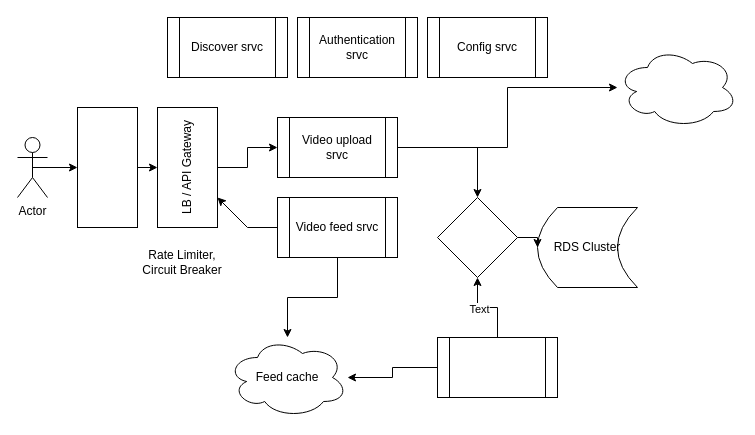
The diagram is 755 pixels wide and 435 high, and some of its shapes have lost their labels. The shapes that lost their labels are listed below. From the top down, each one's centre as x and y in pixels, then its label:
At pixel 677 87: "blob".
At pixel 107 167: "CDN".
At pixel 477 237: "sharding LB".
At pixel 497 367: "Feed cache srvc".
